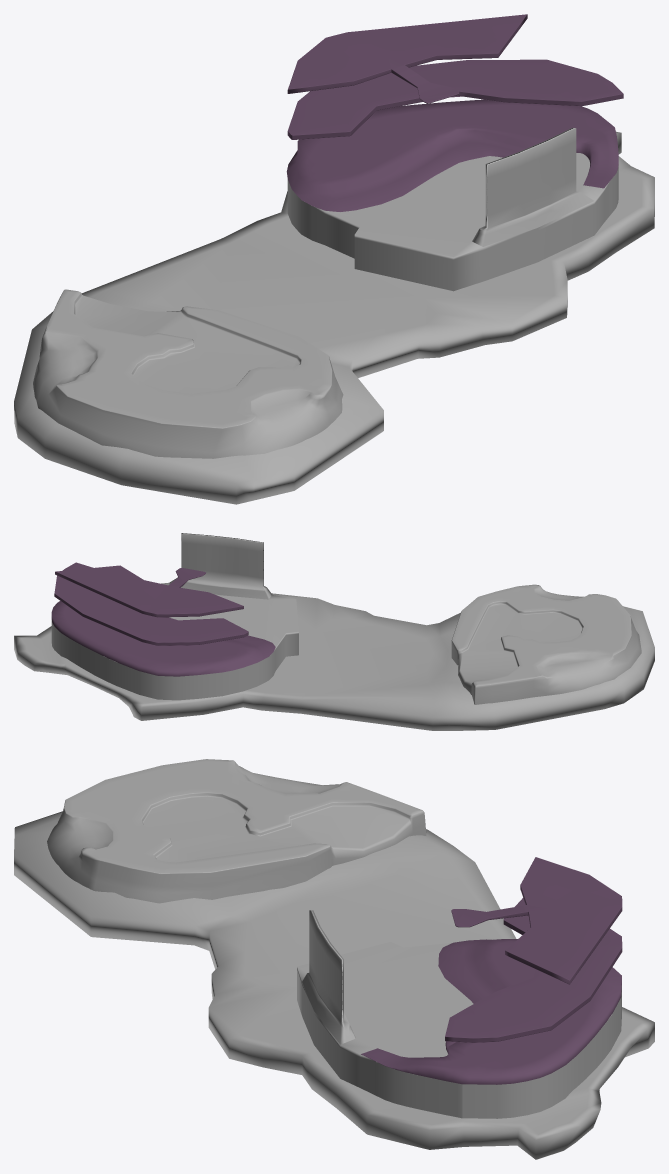
Rendered from Floor Plan.fbx.
3 renders of one model, top to bottom at view 1: azimuth 30°, elevation 25°; view 2: azimuth 150°, elevation 25°; view 3: azimuth 270°, elevation 25°, orthographic. The views are drawn at different scales.
Parts seen in each view (by area): view 1: Mountaint_Floor, Left_side, Lower, Right_Floor, Middle, Upper, TV_Right; view 2: Mountaint_Floor, Left_side, Right_Floor, Lower, Middle, Upper, TV_Right; view 3: Mountaint_Floor, Left_side, Right_Floor, Lower, Upper, Middle, TV_Right.
Boxes of the visible parts, box(x1,y1,x2,y2) form: Mountaint_Floor: box(14, 131, 654, 504); Left_side: box(33, 289, 343, 458); Lower: box(286, 99, 618, 211); Right_Floor: box(287, 153, 618, 291); Middle: box(287, 59, 623, 139); Upper: box(287, 14, 527, 103); TV_Right: box(472, 127, 593, 246); Mountaint_Floor: box(14, 593, 654, 730); Left_side: box(451, 584, 641, 704); Right_Floor: box(51, 582, 298, 700); Lower: box(51, 601, 275, 676); Middle: box(54, 562, 248, 645); Upper: box(55, 565, 243, 617); TV_Right: box(169, 533, 272, 599); Mountaint_Floor: box(14, 811, 654, 1159); Left_side: box(47, 759, 426, 903); Right_Floor: box(297, 942, 621, 1118); Lower: box(361, 939, 621, 1084); Upper: box(451, 857, 622, 984); Middle: box(445, 898, 622, 1042); TV_Right: box(302, 910, 355, 1044).
Bounding box in the file's own units: 67.46 × 12.5 × 50.93.
